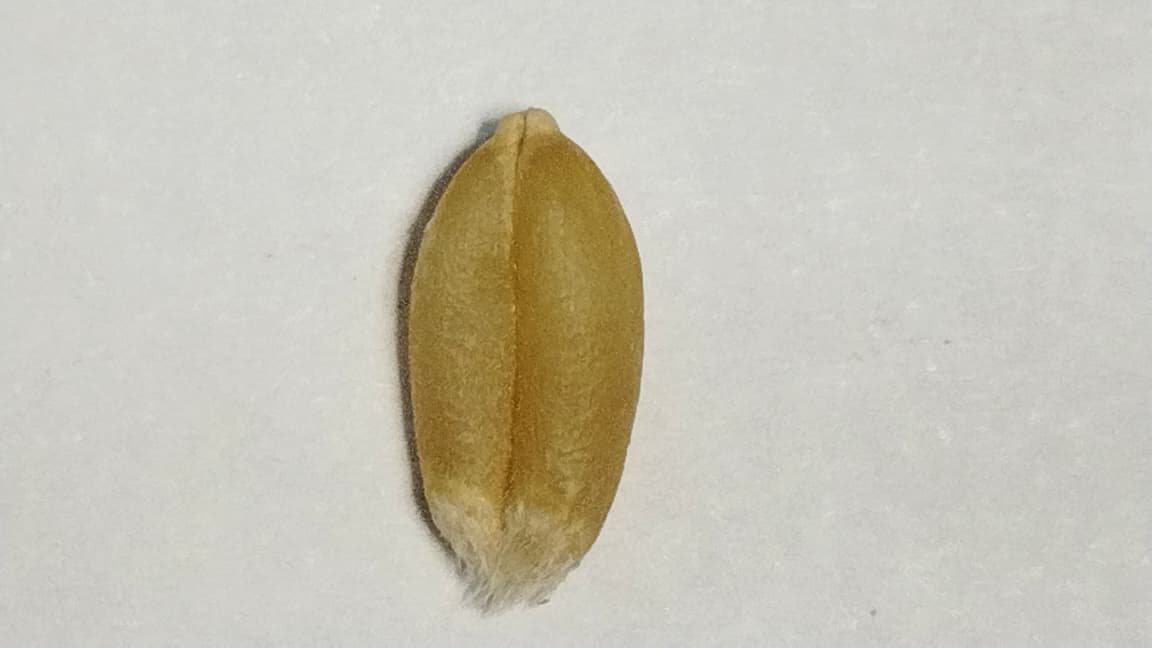healthy: (406, 109, 641, 577)
